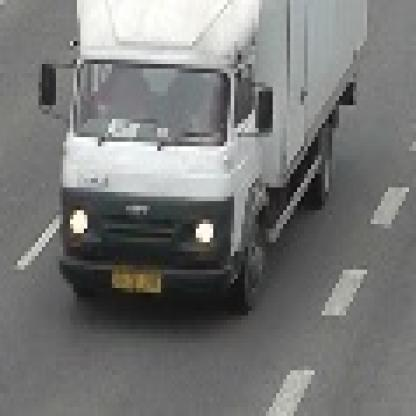truck: (36, 1, 361, 307)
